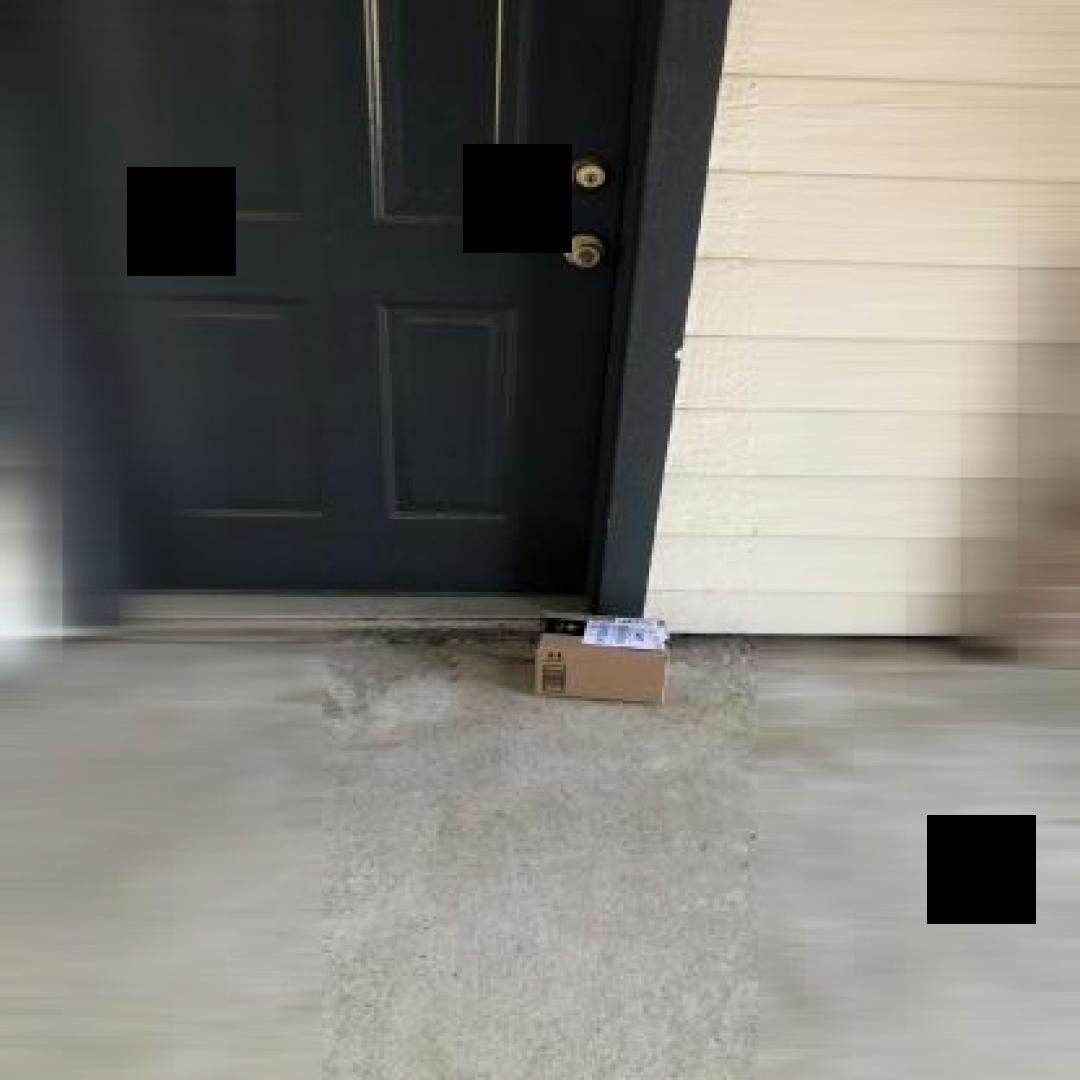package: (519, 605, 688, 709)
